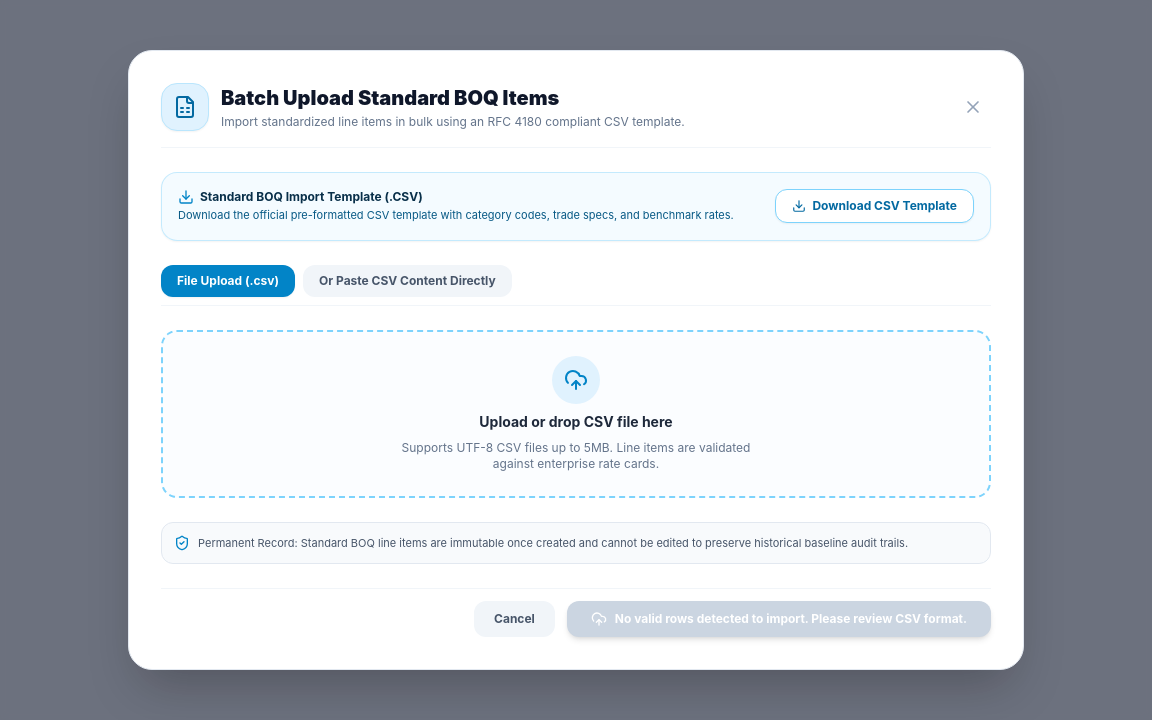
Scenario: StandardBOQUploadModal Component Tests › switches between File Upload and Manual Paste tabs
Expected: the text "Upload or drop CSV file here" is shown, [479,412,673,432]
Switch to Paste tab
Click the button "Or Paste CSV Content Directly".
click(407, 280)  # box [303,264,512,296]
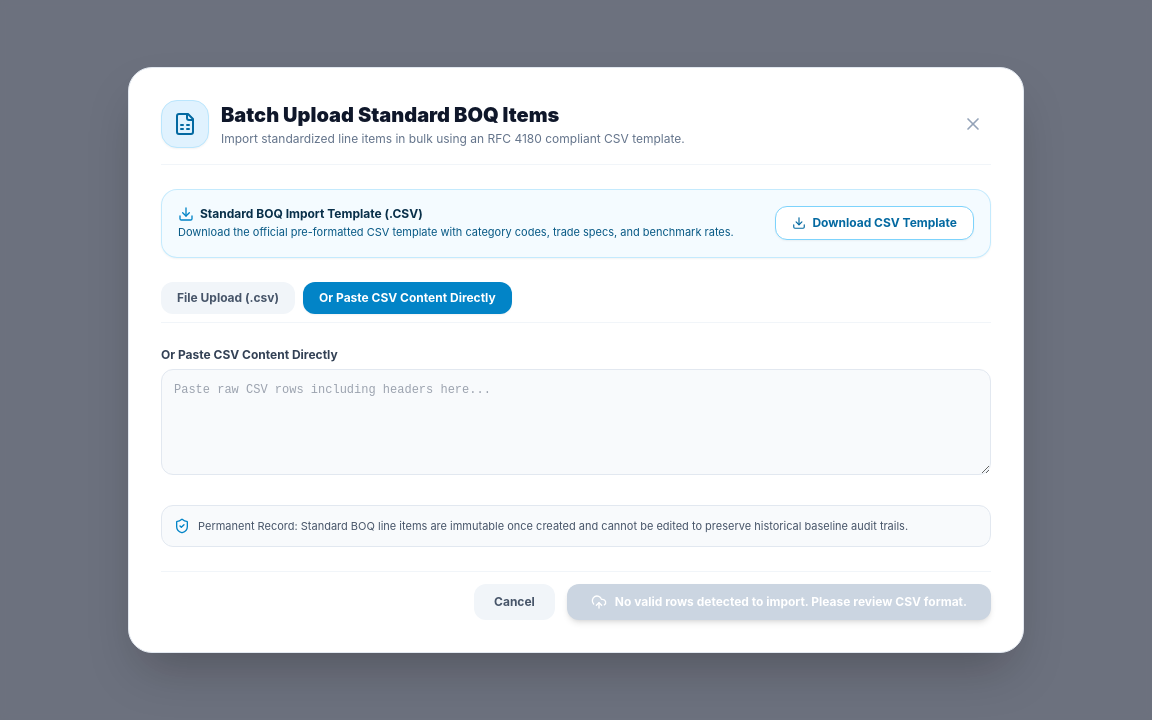
Expected: the text box with placeholder "Paste raw CSV rows including headers here..." is shown, [161,368,991,474]
Switch back to File tab
Click the button "File Upload (.csv)".
click(228, 298)  # box [161,282,295,314]
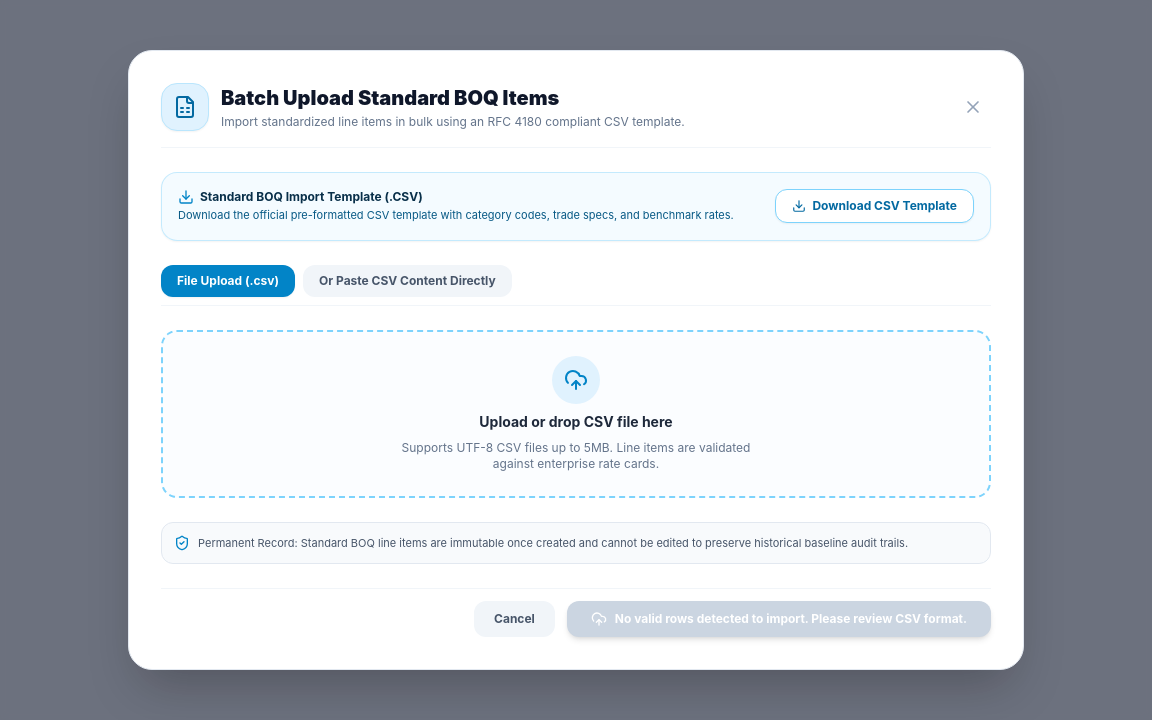
Expected: the text "Upload or drop CSV file here" is shown, [479,412,673,432]
